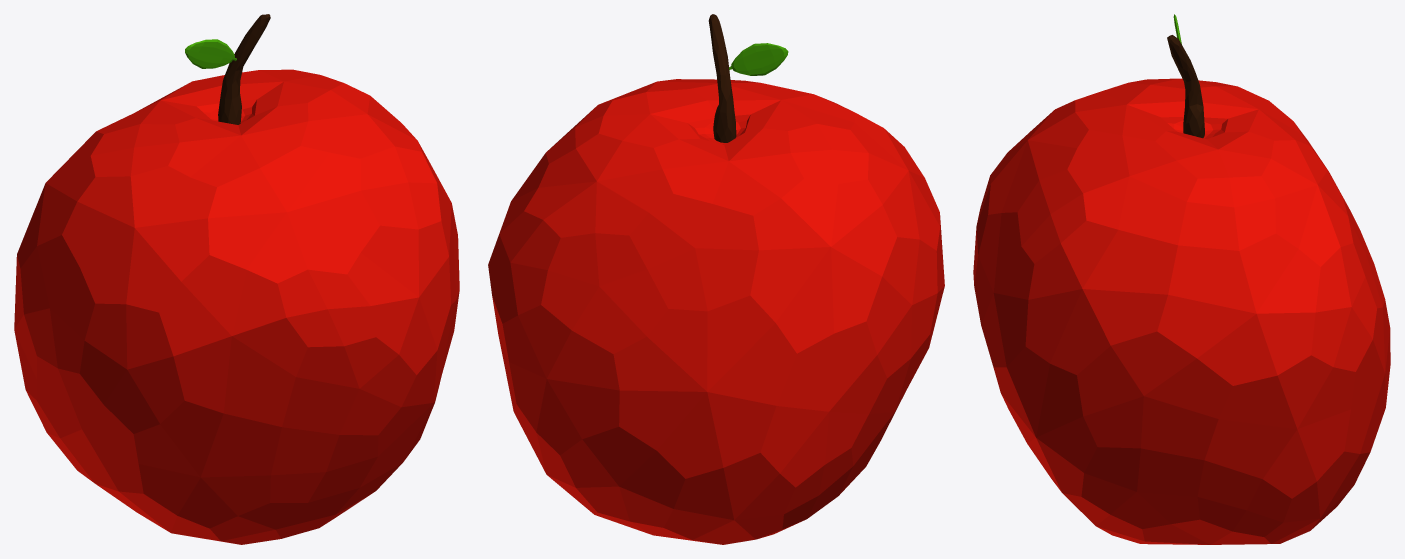
File: Apple.fbx
3 renders of one model, left to right at view 1: azimuth 30°, elevation 25°; view 2: azimuth 150°, elevation 25°; view 3: azimuth 270°, elevation 25°, orthographic. The views are drawn at different scales.
Visible parts, largest first — view 1: Apple; view 2: Apple; view 3: Apple.
Boxes of the visible parts, <box> form: Apple: <box>14,14,459,544</box>; Apple: <box>488,14,944,544</box>; Apple: <box>973,14,1390,544</box>.
Bounding box in the file's own units: 30.23 × 37.06 × 28.58.
